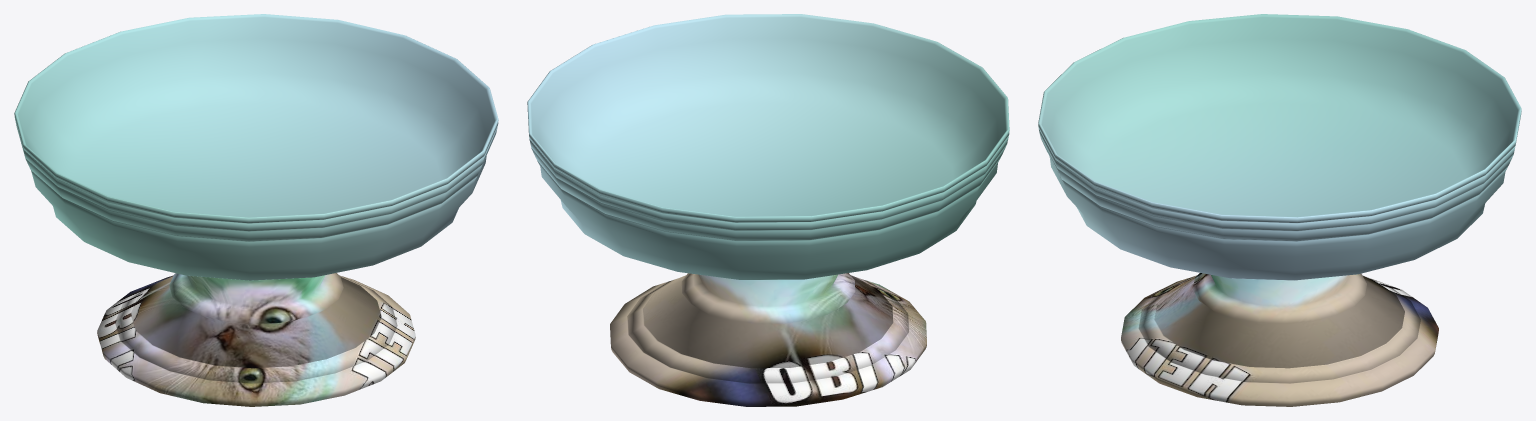
The model's file is Bowl.fbx.
The picture shows the model from 3 angles, left to right: view 1: azimuth 30°, elevation 25°; view 2: azimuth 150°, elevation 25°; view 3: azimuth 270°, elevation 25°; orthographic projection.
Parts seen in each view (by area): view 1: bowl; view 2: bowl; view 3: bowl.
Boxes of the visible parts, <box> form: bowl: <box>14,14,498,406</box>; bowl: <box>527,14,1009,406</box>; bowl: <box>1038,14,1521,406</box>.
Size of the model in its own units: 418 by 214 by 418.
1 material, 1 textured.
